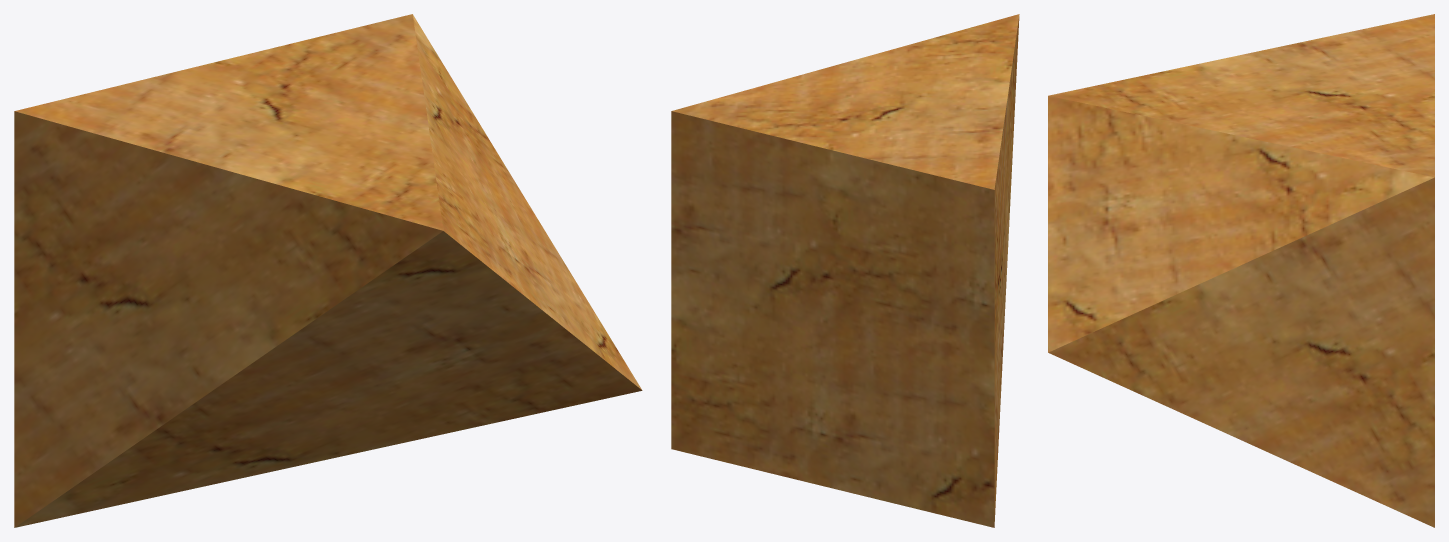
Rendered from block-ramp-corner-sw.glb.
The picture shows the model from 3 angles, left to right: view 1: azimuth 30°, elevation 25°; view 2: azimuth 150°, elevation 25°; view 3: azimuth 270°, elevation 25°; orthographic projection. The views are drawn at different scales.
Visible parts, largest first — view 1: Block-Ramp-Corner; view 2: Block-Ramp-Corner; view 3: Block-Ramp-Corner.
Boxes of the visible parts, x1,y1,x2,y2 form: Block-Ramp-Corner: (14,14,642,527); Block-Ramp-Corner: (671,14,1019,527); Block-Ramp-Corner: (1048,14,1434,527).
Size of the model in its own units: 2 by 2 by 2.
1 material, 1 textured.
